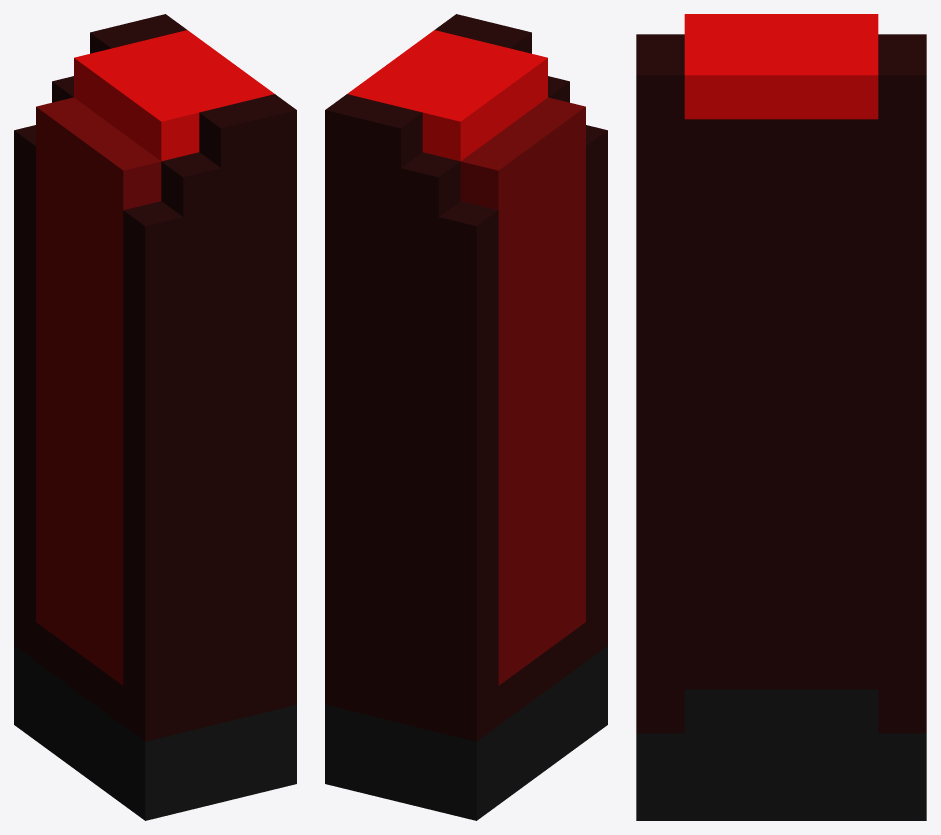
The model's file is ShieldCoop-3.obj.
The picture shows the model from 3 angles, left to right: view 1: azimuth 30°, elevation 25°; view 2: azimuth 150°, elevation 25°; view 3: azimuth 270°, elevation 25°; orthographic projection. The views are drawn at different scales.
Bounding box in the file's own units: 0.4 × 1.7 × 0.6.
1 material, 1 textured.
